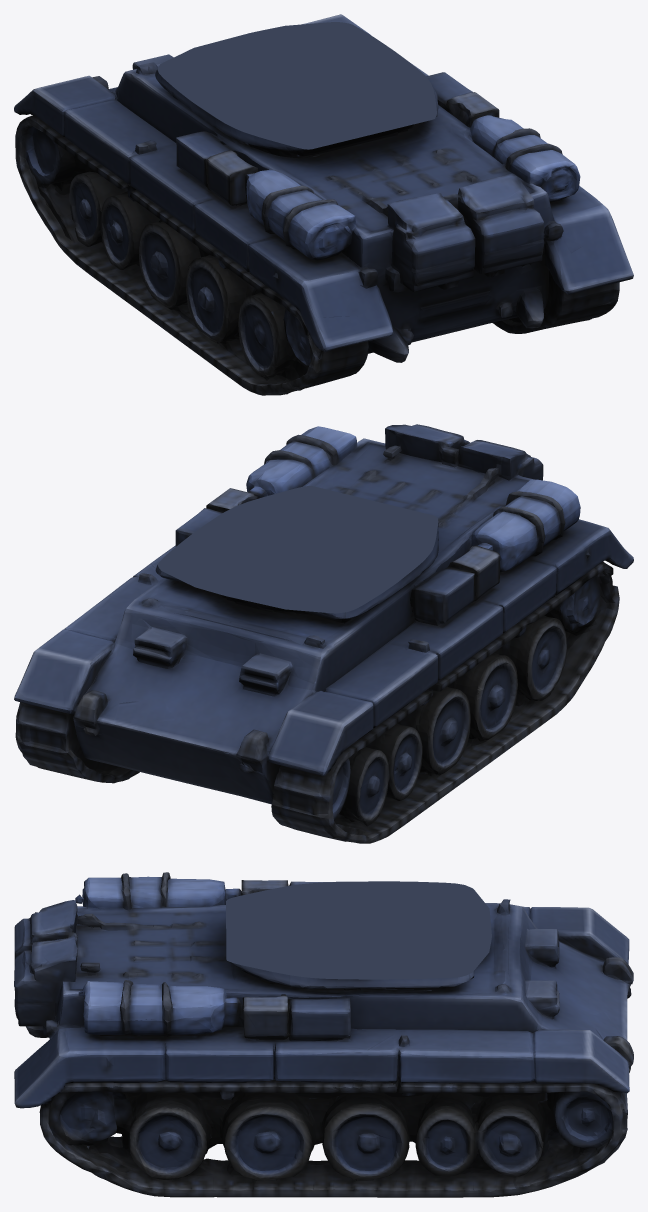
The model's file is m4_sherman_hull_enemy.glb.
The picture shows the model from 3 angles, top to bottom: view 1: azimuth 30°, elevation 25°; view 2: azimuth 150°, elevation 25°; view 3: azimuth 270°, elevation 25°; orthographic projection.
Visible parts, largest first — view 1: rear_stowage, hull, deck_closure; view 2: hull, rear_stowage, deck_closure; view 3: hull, rear_stowage, deck_closure.
Part boxes in pixels (<box>): rear_stowage: <box>241,128,633,395</box>; hull: <box>14,14,523,386</box>; deck_closure: <box>157,22,436,149</box>; hull: <box>14,459,556,843</box>; rear_stowage: <box>264,424,633,713</box>; deck_closure: <box>158,486,438,613</box>; hull: <box>160,878,633,1197</box>; rear_stowage: <box>14,872,190,1197</box>; deck_closure: <box>226,881,491,979</box>.
Size of the model in its own units: 0.4508 by 0.27 by 0.7729.
2 materials, 1 textured.
